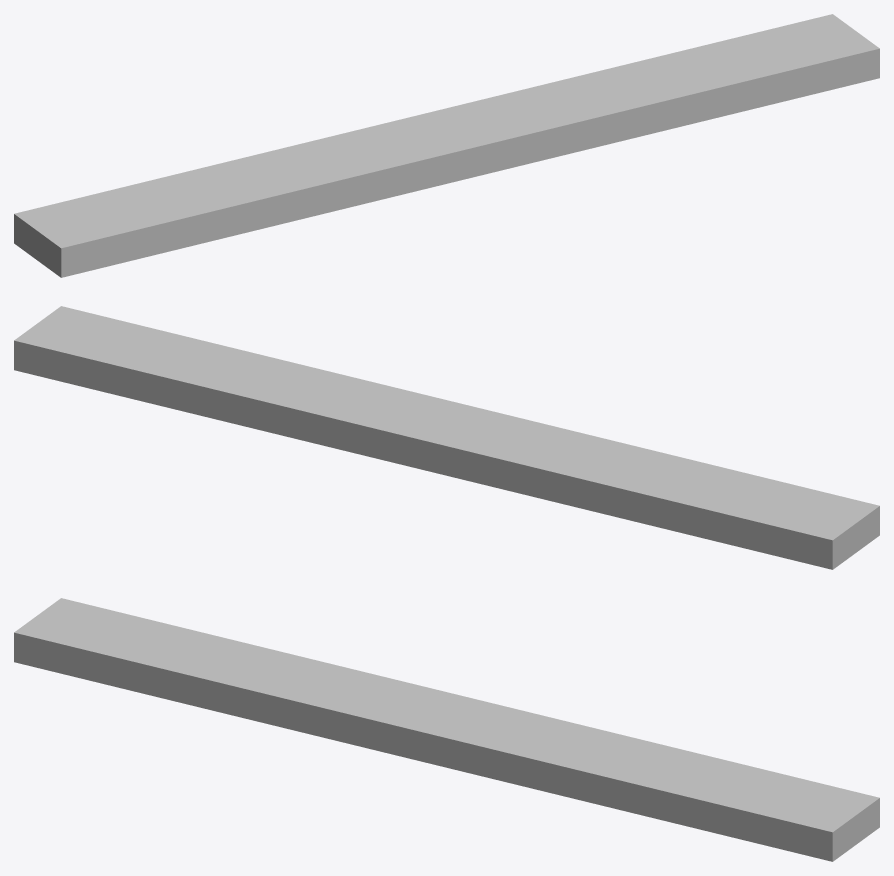
File: WallLamp.fbx
3 renders of one model, top to bottom at view 1: azimuth 30°, elevation 25°; view 2: azimuth 150°, elevation 25°; view 3: azimuth 330°, elevation 25°, orthographic.
Parts seen in each view (by area): view 1: WallLamp; view 2: WallLamp; view 3: WallLamp.
Boxes of the visible parts, <box> form: WallLamp: <box>14,14,879,277</box>; WallLamp: <box>14,306,879,569</box>; WallLamp: <box>14,598,879,861</box>.
Bounding box in the file's own units: 120 × 4.14 × 11.99.
